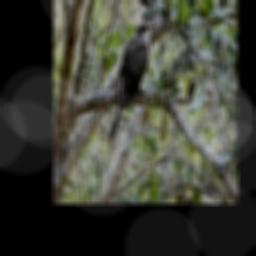Cuckoo: (108, 23, 154, 145)
